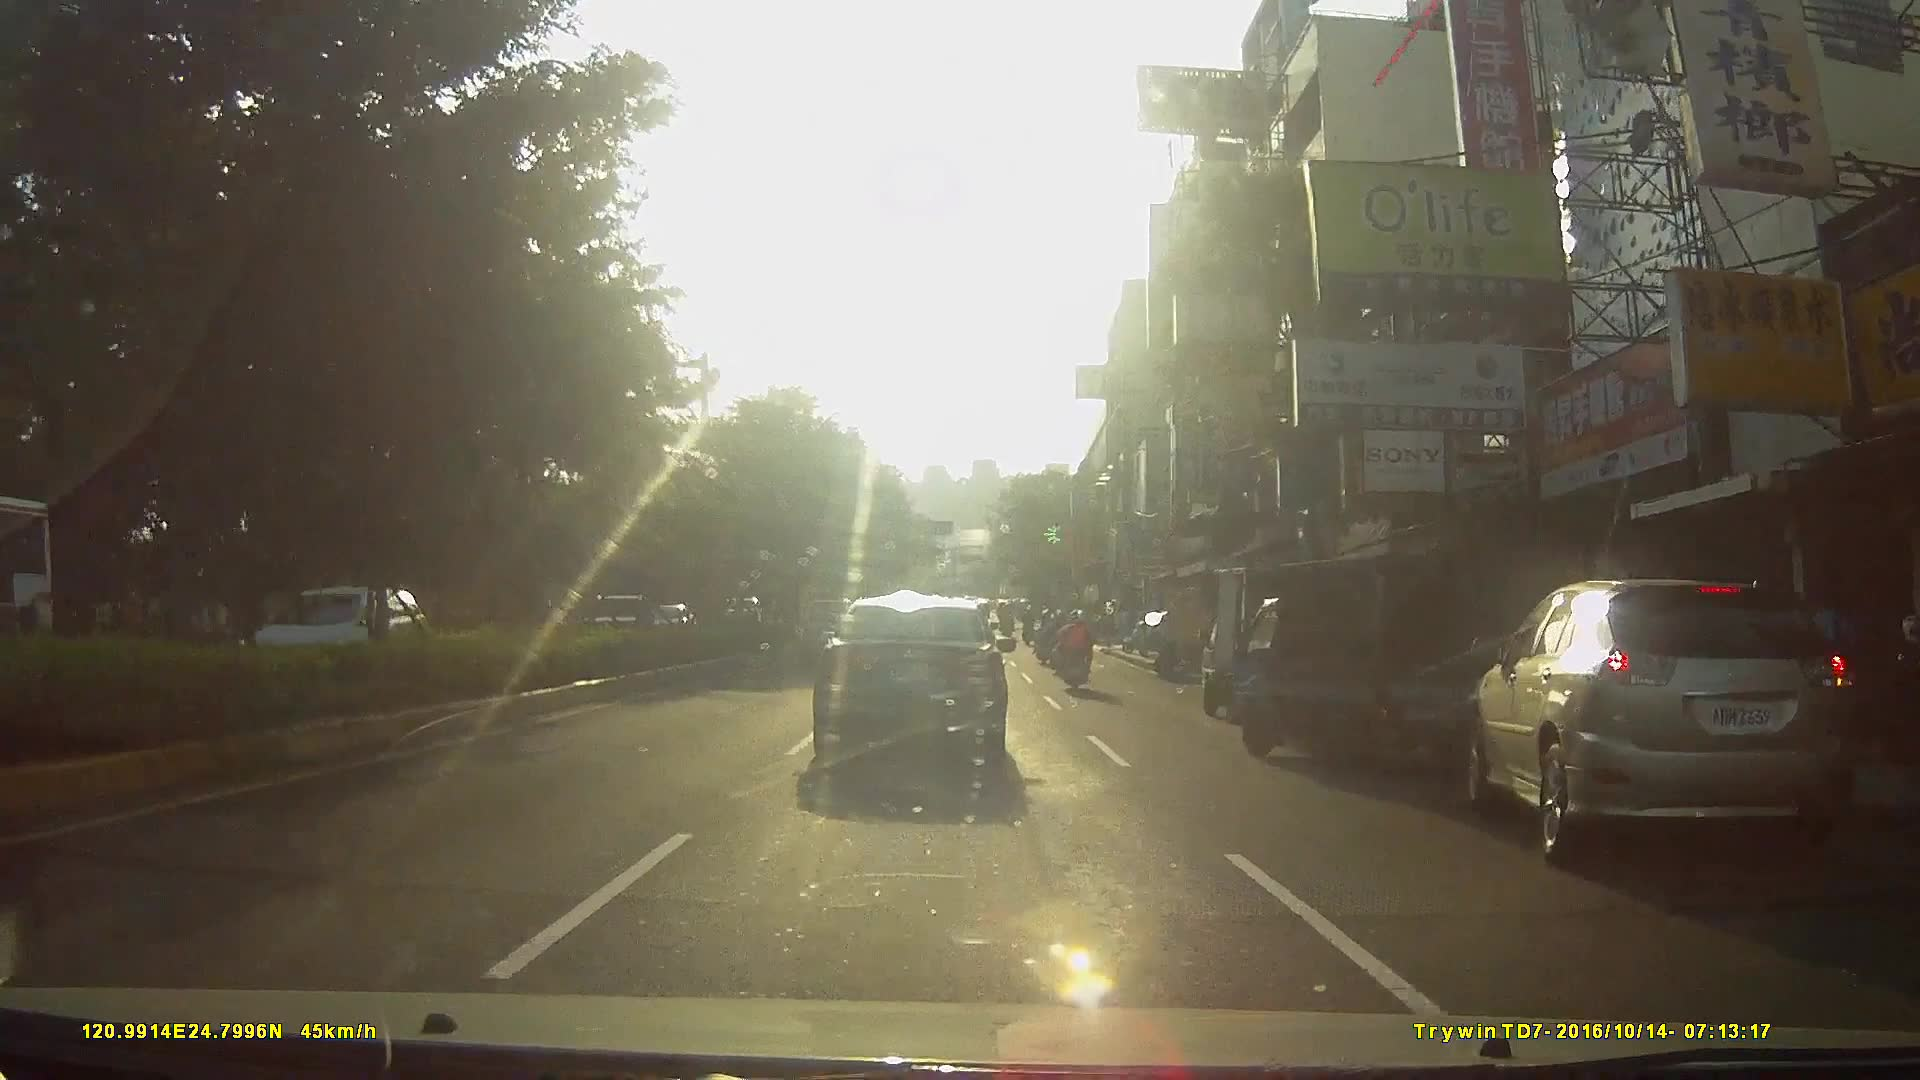rider: (1052, 607, 1095, 697), (1035, 607, 1057, 664)
vehicle: (1461, 564, 1894, 884), (1225, 543, 1524, 784), (810, 590, 1029, 780), (235, 580, 431, 690)
